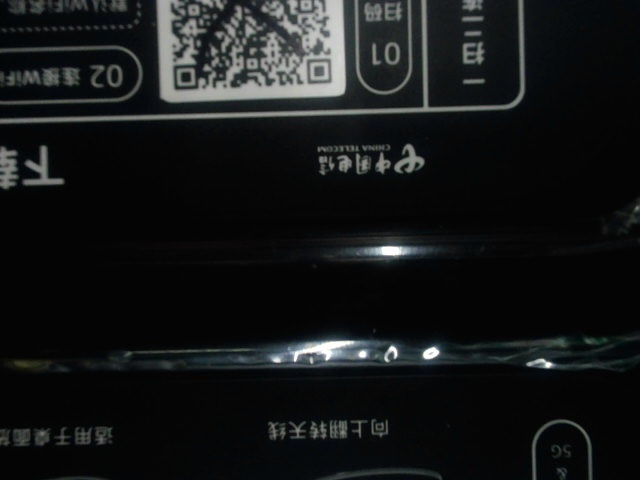AB_ChinaTelecom: (313, 141, 428, 183)
